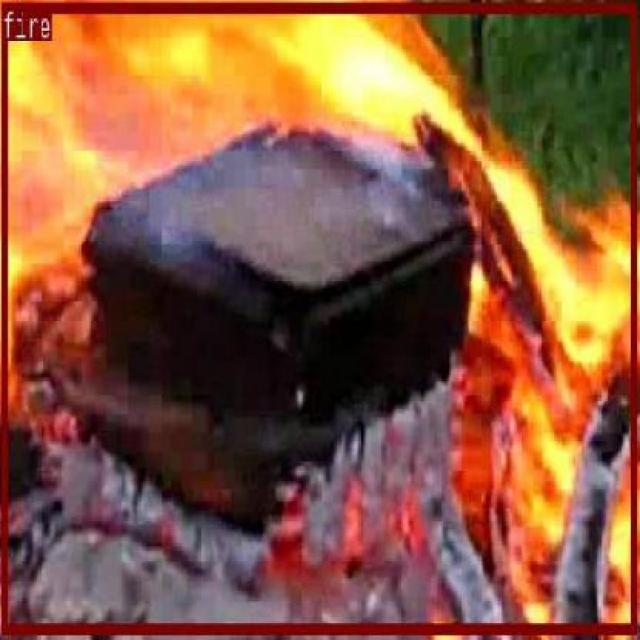Fire: (318, 316, 636, 631)
